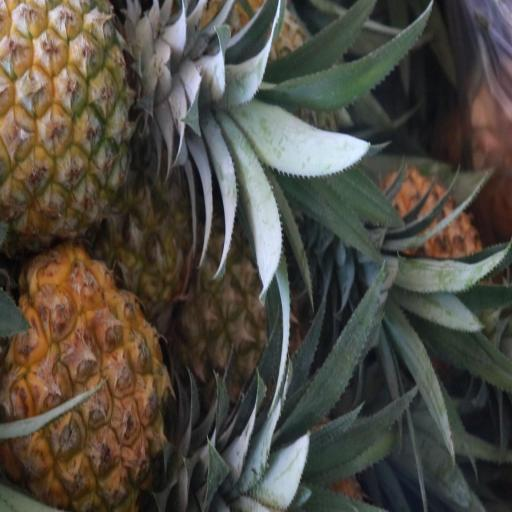Pineapple - v8 v1: (6, 246, 164, 504), (0, 0, 162, 229), (178, 214, 303, 405)
